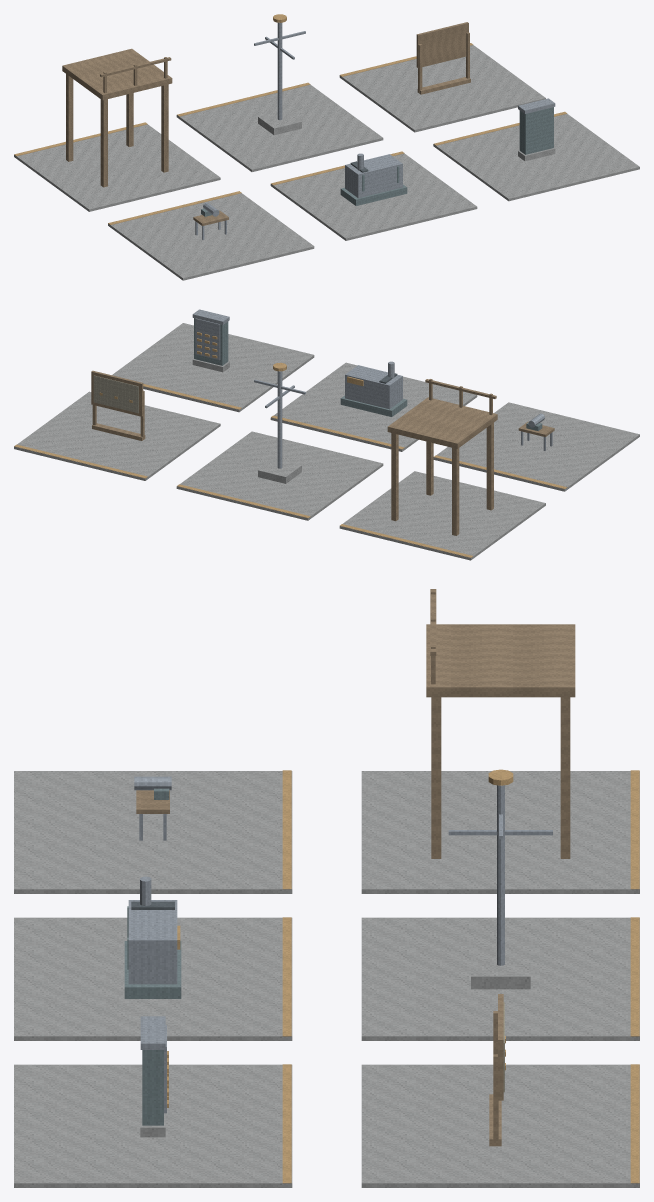
Rendered from level_blockout_kit_wld_04_p01.glb.
3 renders of one model, top to bottom at view 1: azimuth 30°, elevation 25°; view 2: azimuth 150°, elevation 25°; view 3: azimuth 270°, elevation 25°, orthographic. The views are drawn at different scales.
Parts seen in each view (by area): view 1: level_blockout_kit_wld_04_p01; view 2: level_blockout_kit_wld_04_p01; view 3: level_blockout_kit_wld_04_p01.
Boxes of the visible parts, x1=… form: level_blockout_kit_wld_04_p01: x1=14, y1=14, x2=639, y2=280; level_blockout_kit_wld_04_p01: x1=14, y1=309, x2=639, y2=560; level_blockout_kit_wld_04_p01: x1=14, y1=589, x2=639, y2=1187.
Bounding box in the file's own units: 19.65 × 4.8 × 12.6.
7 materials, 7 textured.
